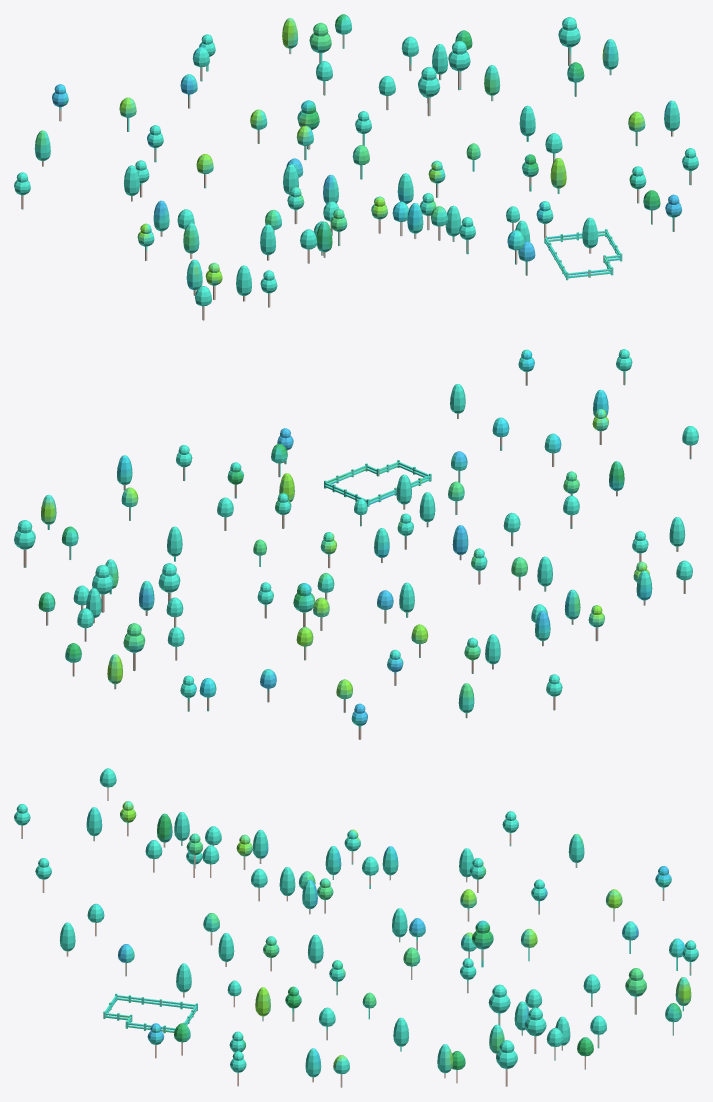
The model's file is treesandfence.obj.
3 renders of one model, top to bottom at view 1: azimuth 30°, elevation 25°; view 2: azimuth 150°, elevation 25°; view 3: azimuth 270°, elevation 25°, orthographic. The views are drawn at different scales.
Visible parts, largest first — view 1: treesandfence; view 2: treesandfence; view 3: treesandfence.
Part boxes in pixels (x1,y1,x2,y2): treesandfence: [14, 14, 698, 320]; treesandfence: [14, 349, 698, 739]; treesandfence: [14, 768, 698, 1087].
Size of the model in its own units: 87.17 by 20.29 by 96.27.
Materials: 1 (1 with a texture image).
